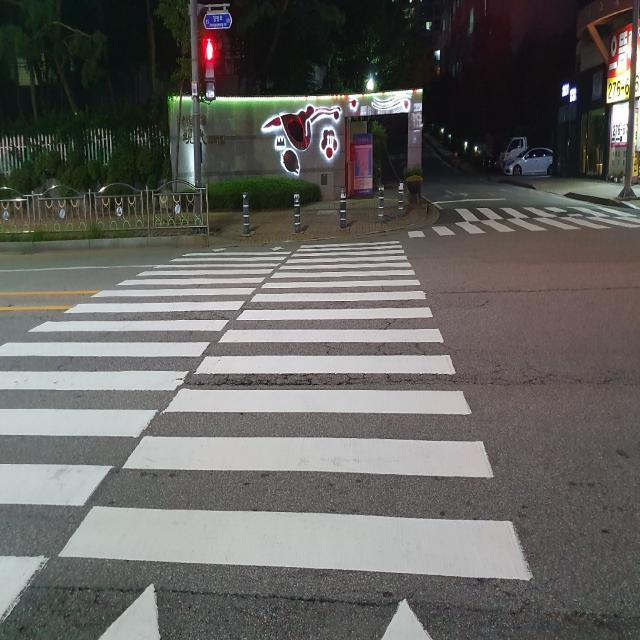빨간불: (202, 36, 217, 106)
횡단보도: (0, 237, 538, 639), (407, 204, 640, 237)
